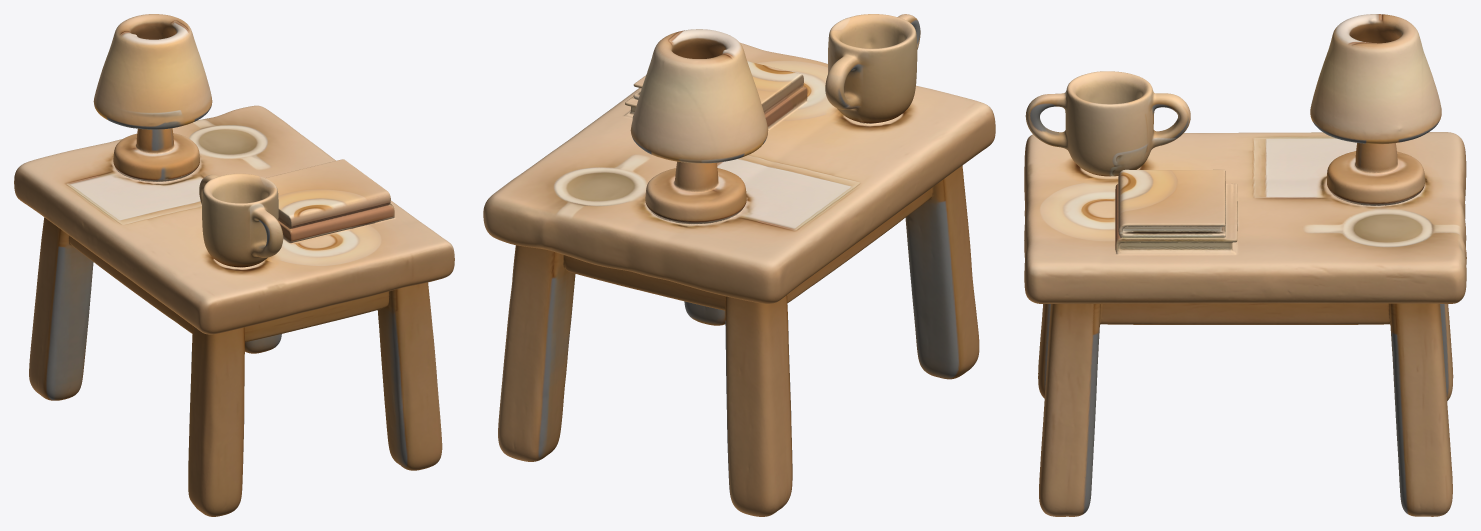
3 renders of one model, left to right at view 1: azimuth 30°, elevation 25°; view 2: azimuth 150°, elevation 25°; view 3: azimuth 270°, elevation 25°, orthographic. The views are drawn at different scales.
Parts seen in each view (by area): view 1: tripo_node_4bd348e9-5037-411c-a37b-1e282691fc79; view 2: tripo_node_4bd348e9-5037-411c-a37b-1e282691fc79; view 3: tripo_node_4bd348e9-5037-411c-a37b-1e282691fc79.
Boxes of the visible parts, <box> form: tripo_node_4bd348e9-5037-411c-a37b-1e282691fc79: <box>14,14,454,516</box>; tripo_node_4bd348e9-5037-411c-a37b-1e282691fc79: <box>483,14,995,516</box>; tripo_node_4bd348e9-5037-411c-a37b-1e282691fc79: <box>1024,14,1466,516</box>.
Size of the model in its own units: 0.725 by 1 by 0.9668.
Materials: 1 (1 with a texture image).
